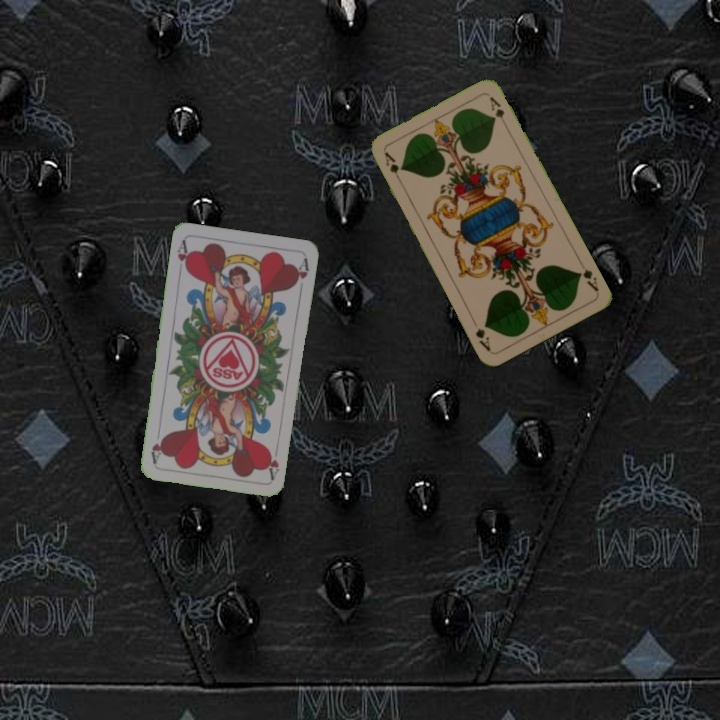GA: (380, 148, 405, 186), (574, 265, 601, 294)
HA: (173, 237, 193, 277), (263, 441, 282, 481)
